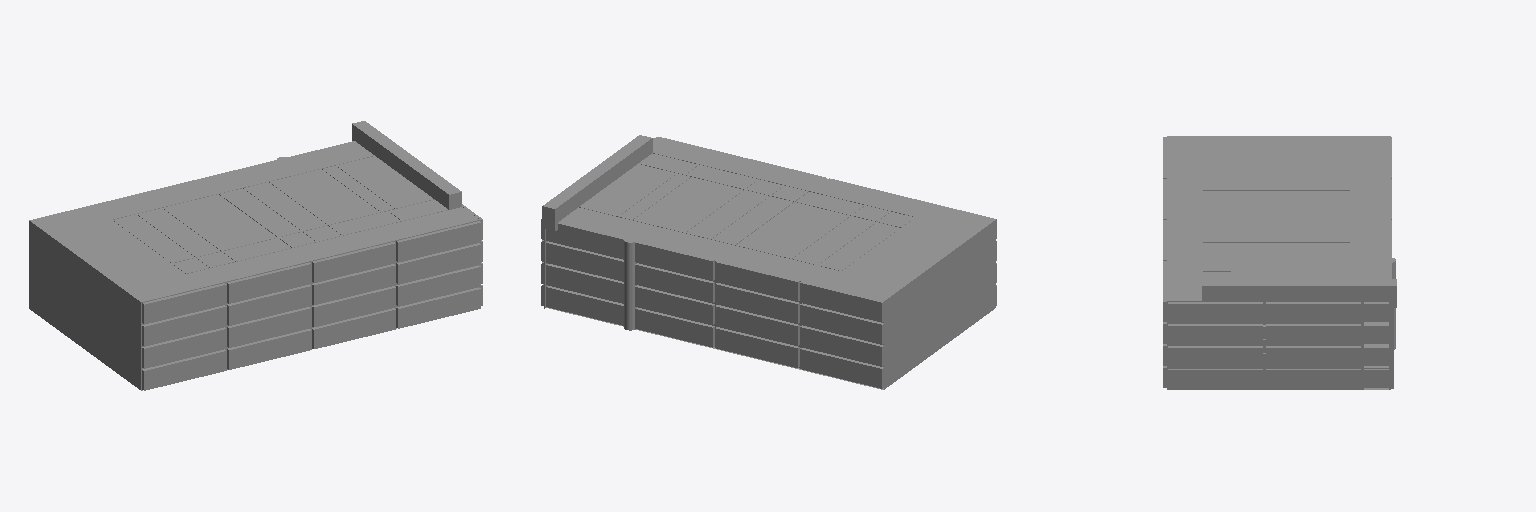
Rendered from office1_layout.obj.
3 renders of one model, left to right at view 1: azimuth 30°, elevation 25°; view 2: azimuth 150°, elevation 25°; view 3: azimuth 270°, elevation 25°, orthographic.
Parts seen in each view (by area): view 1: ceiling.003, window.002, wall.001, ceiling.002; view 2: ceiling.003, window.003, wall.001, decoration.002, ceiling.002; view 3: ceiling.003, furniture.001, wall.001, window.002.
Boxes of the visible parts, <box> form: ceiling.003: <box>29,141,479,301</box>; window.002: <box>141,220,480,390</box>; wall.001: <box>29,121,461,389</box>; ceiling.002: <box>113,156,446,273</box>; ceiling.003: <box>559,137,994,301</box>; window.003: <box>546,223,883,388</box>; wall.001: <box>542,135,995,389</box>; decoration.002: <box>624,239,636,330</box>; ceiling.002: <box>579,153,913,270</box>; ceiling.003: <box>1167,136,1390,300</box>; furniture.001: <box>1167,301,1393,389</box>; wall.001: <box>1202,279,1396,389</box>; window.002: <box>1163,137,1166,387</box>.
Size of the model in its own units: 13.13 by 3.8 by 7.76.